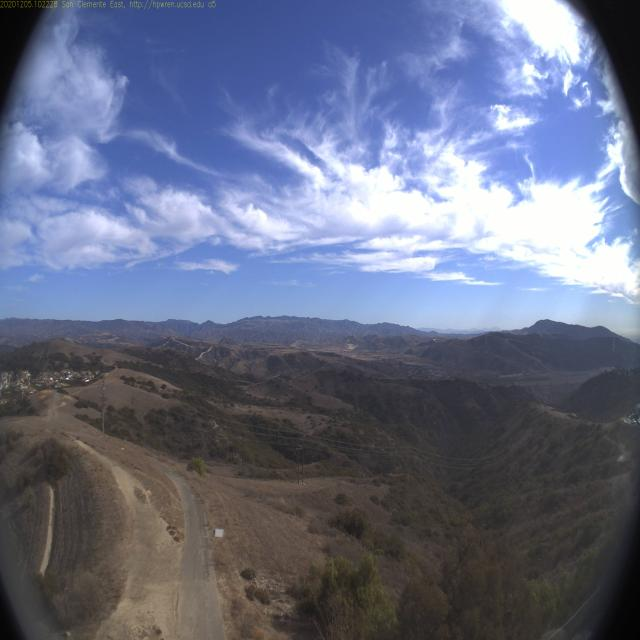smoke: (312, 324, 322, 352)
